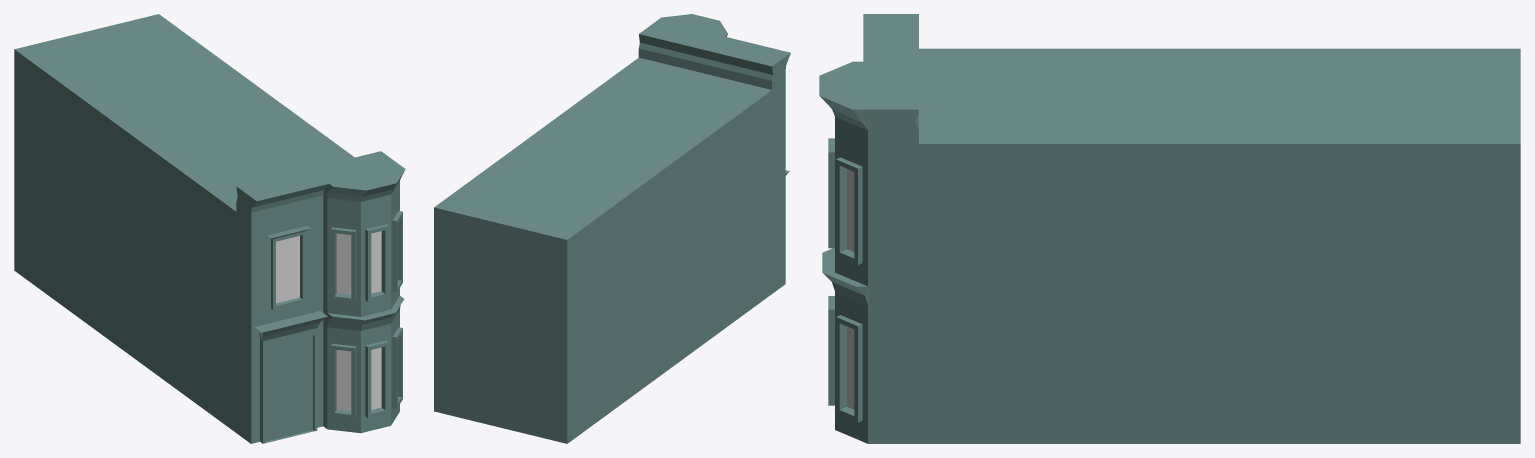
The model's file is SF_house_aquamarine.fbx.
3 views of the same model, side by side, from view 1: azimuth 30°, elevation 25°; view 2: azimuth 150°, elevation 25°; view 3: azimuth 270°, elevation 25° (orthographic). The views are drawn at different scales.
Visible parts, largest first — view 1: Cube.001; view 2: Cube.001; view 3: Cube.001.
Boxes of the visible parts, bbox=[...] form: Cube.001: bbox=[14, 14, 405, 443]; Cube.001: bbox=[434, 14, 790, 443]; Cube.001: bbox=[819, 14, 1520, 443].
Bounding box in the file's own units: 297 × 484 × 920.
